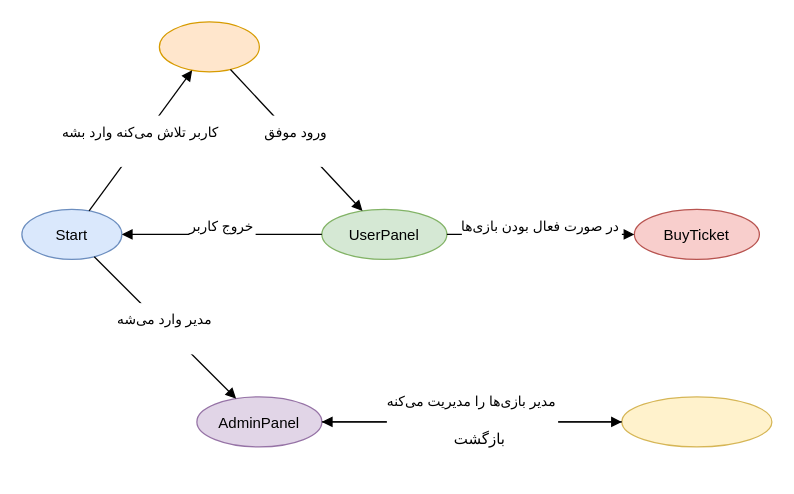
The diagram is 794 pixels wide and 494 high, and some of its shapes have lost their labels. The shapes that lost their labels are listed below. From the top down, each one's centre as x and y in pixels, then its label:
At (x=208, y=46): "Login".
At (x=696, y=421): "ManageGames".
